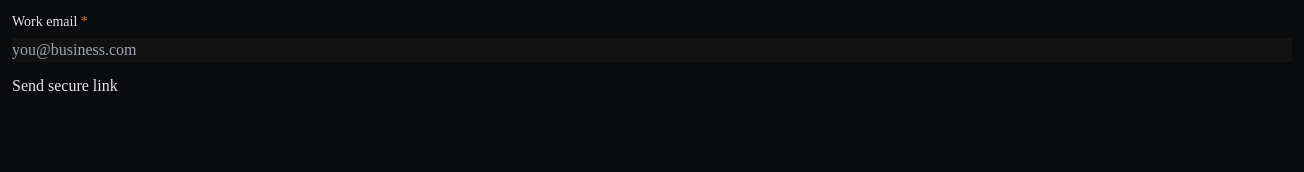
Scenario: AuthForm Magic Link flow › sends a Magic Link and shows simple success copy
Step 1. Type "jane@example.com" into the field labelled "Work email *" → (652, 50), box [12,38,1292,62]
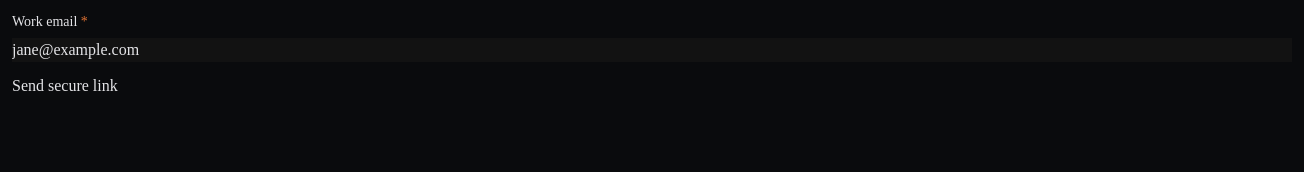
Step 2. Click the button "Send secure link" → (65, 86), box [12,74,118,98]
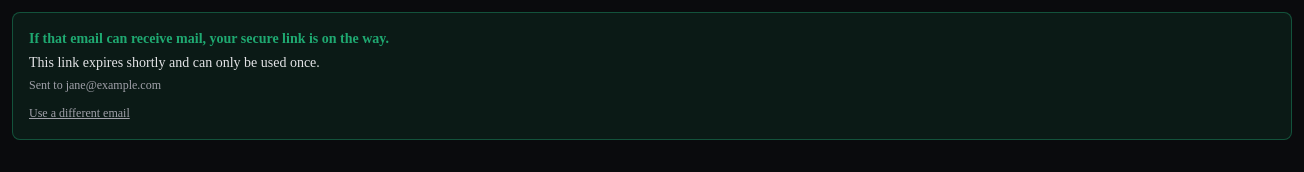
Now the text "If that email can receive mail, your secure link is on the way." is shown, box [29,31,389,46]
Now the text "This link expires shortly and can only be used once." is shown, box [29,55,320,70]
